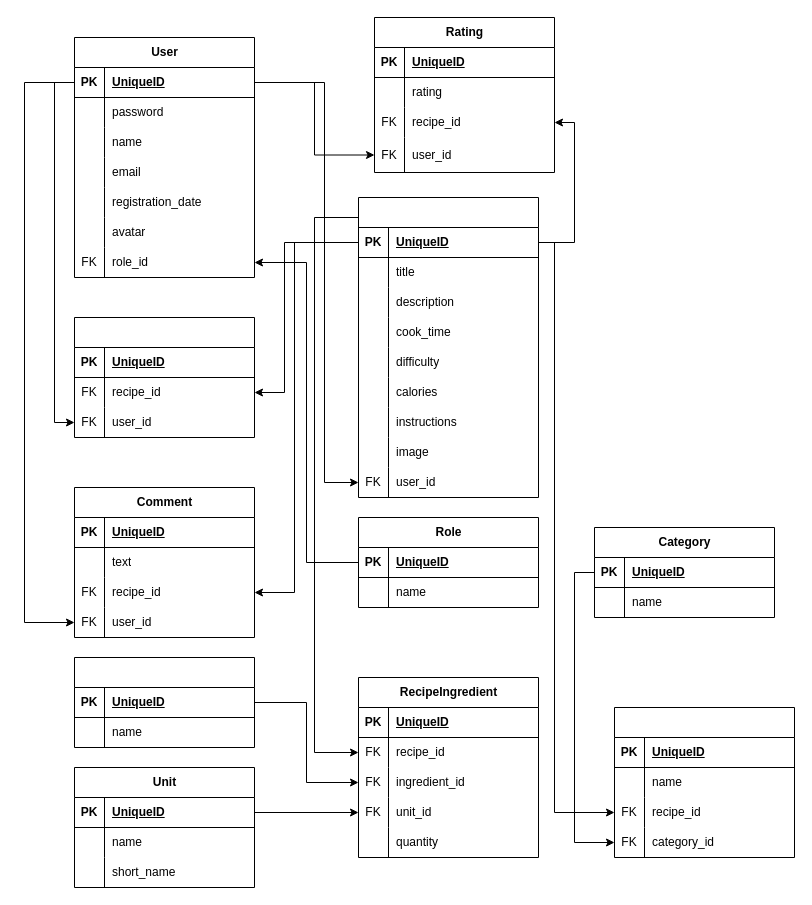
The diagram is 812 pixels wide and 905 high, and some of its shapes have lost their labels. Here are the shapes that lost their labels. From the top down, the box of each, then its label:
(358, 196, 538, 498): Recipe
(74, 316, 254, 438): Favorite
(74, 656, 254, 748): Ingredient
(614, 706, 794, 858): CategoryRecipe
